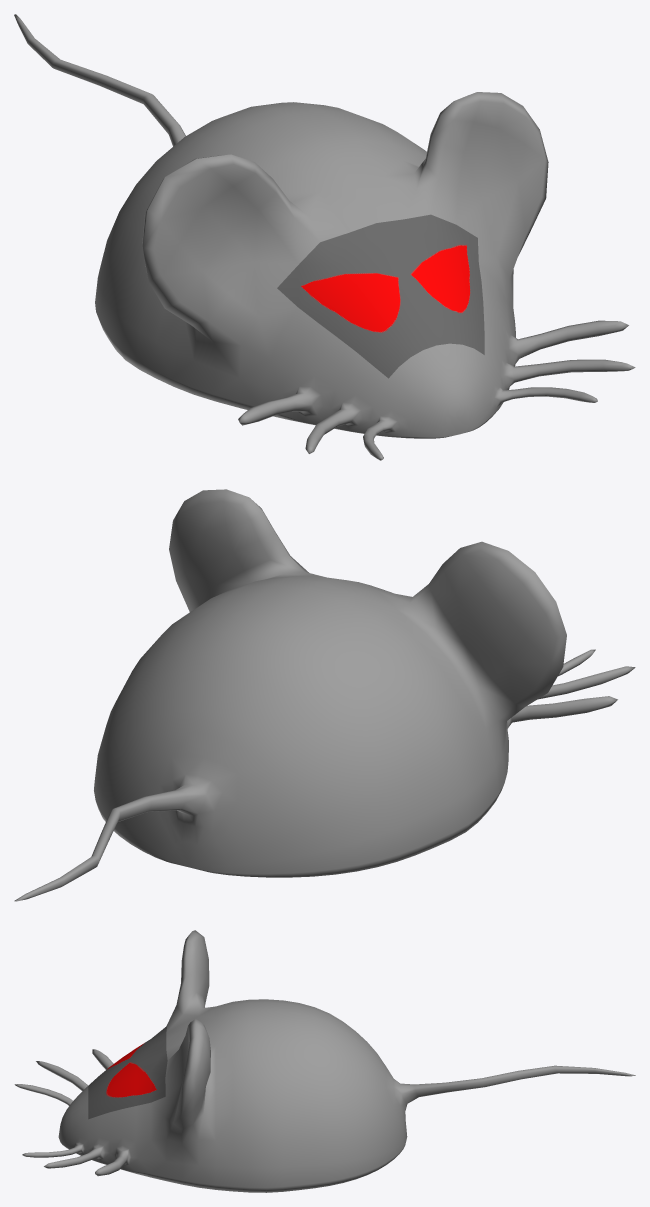
File: mouse01.fbx
The picture shows the model from 3 angles, top to bottom: view 1: azimuth 30°, elevation 25°; view 2: azimuth 150°, elevation 25°; view 3: azimuth 270°, elevation 25°; orthographic projection. The views are drawn at different scales.
Parts seen in each view (by area): view 1: pSphere1; view 2: pSphere1; view 3: pSphere1.
Boxes of the visible parts, <box> form: pSphere1: <box>14,14,635,460</box>; pSphere1: <box>14,489,635,901</box>; pSphere1: <box>14,930,635,1192</box>.
Bounding box in the file's own units: 7.31 × 4.05 × 14.64.
2 materials, 1 textured.
